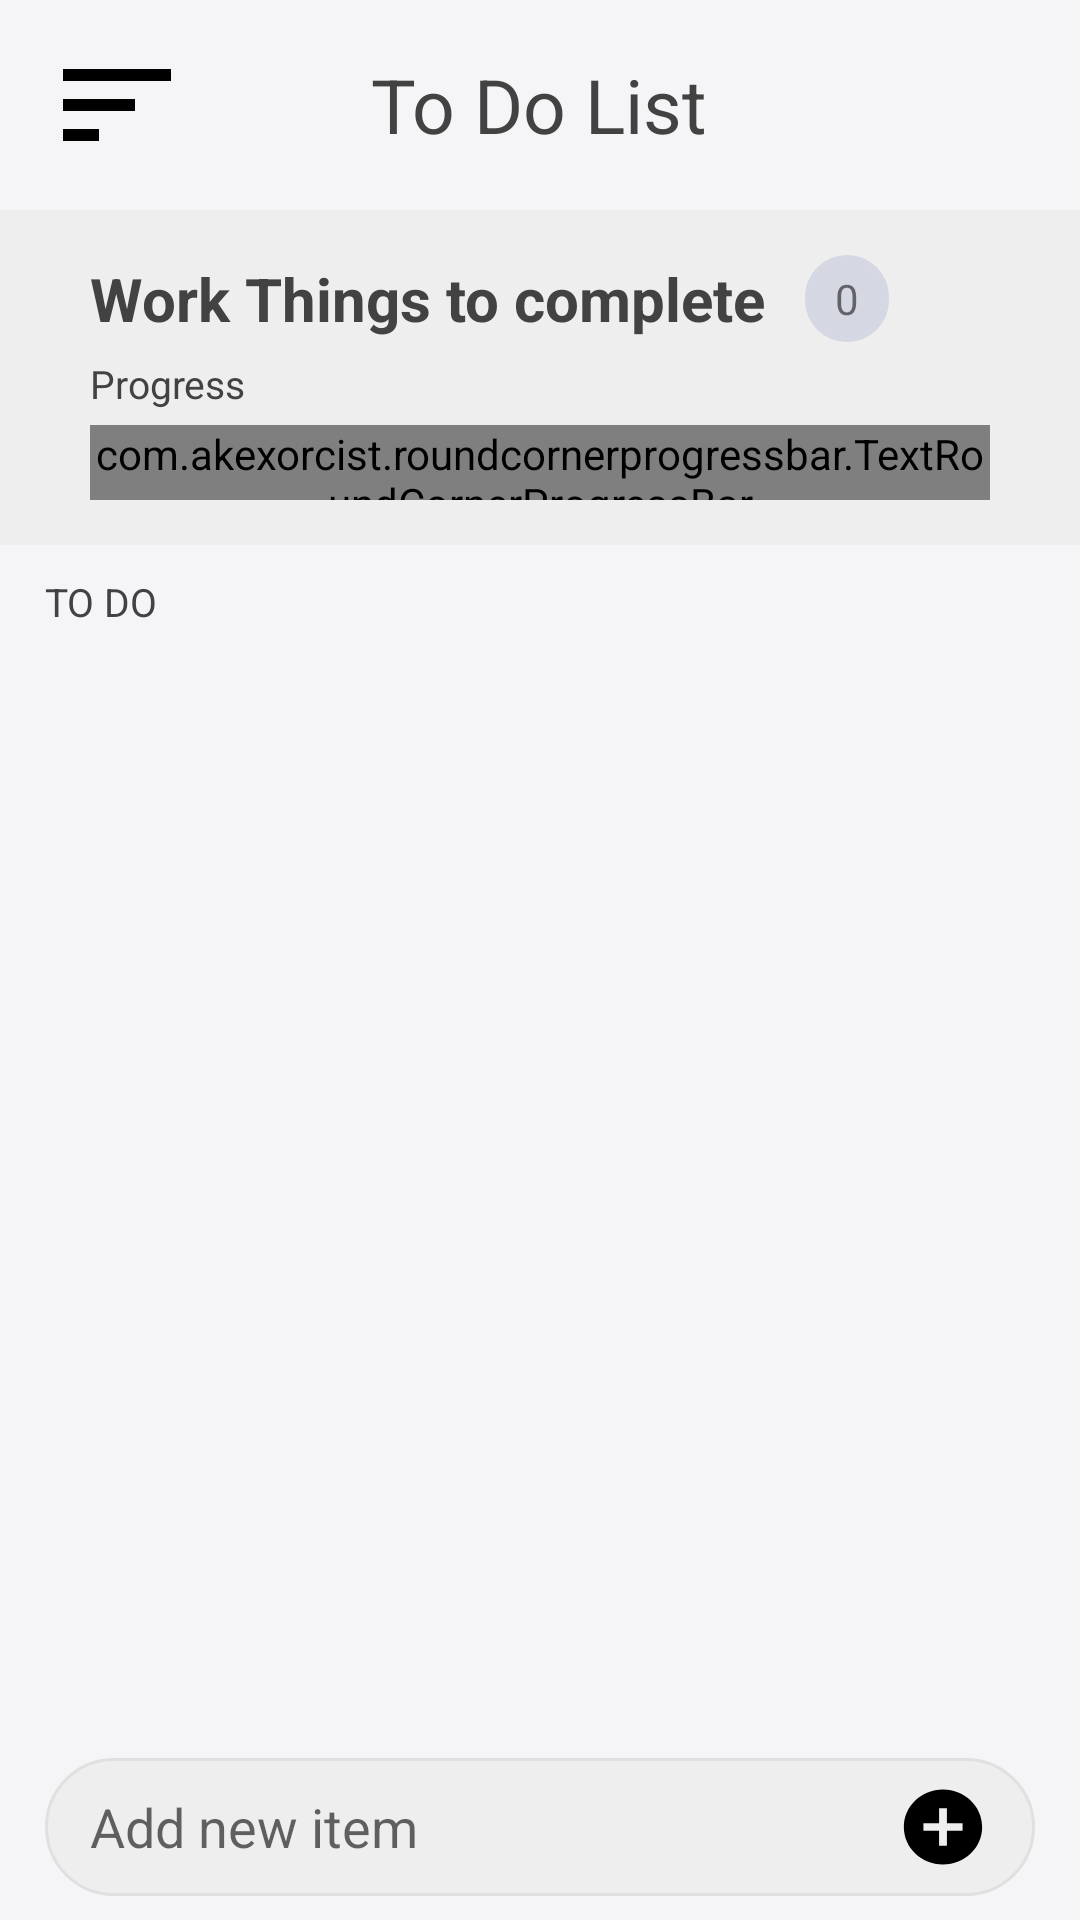

Named icons in this screenshot (1080 × 1920) and their centers, (x=x, y=y):
menu: (x=117, y=105)
